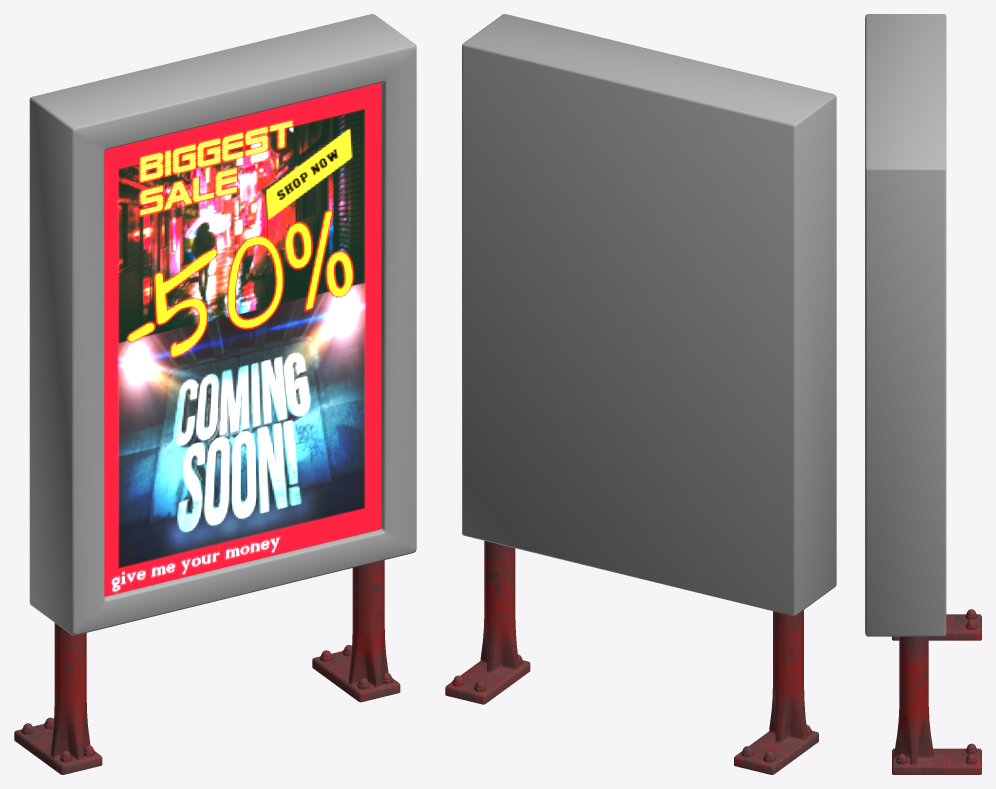
The picture shows the model from 3 angles, left to right: view 1: azimuth 30°, elevation 25°; view 2: azimuth 150°, elevation 25°; view 3: azimuth 270°, elevation 25°; orthographic projection. The views are drawn at different scales.
Parts seen in each view (by area): view 1: billboard_0; view 2: billboard_0; view 3: billboard_0.
Boxes of the visible parts, box(x1,y1,x2,y2) form: billboard_0: box(14, 14, 416, 774); billboard_0: box(445, 14, 836, 774); billboard_0: box(865, 14, 981, 774).
Size of the model in its own units: 1.24 by 2.26 by 0.3945.
Materials: 1 (1 with a texture image).
